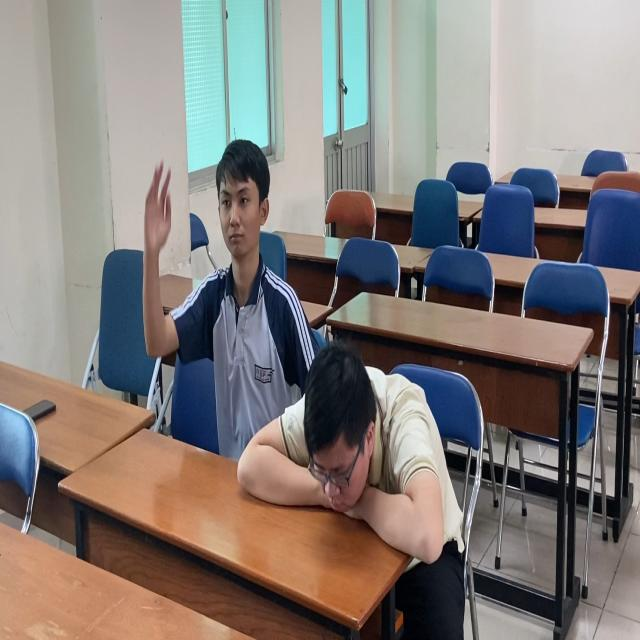raise_hand: (138, 132, 310, 477)
sleep: (237, 335, 471, 577)
